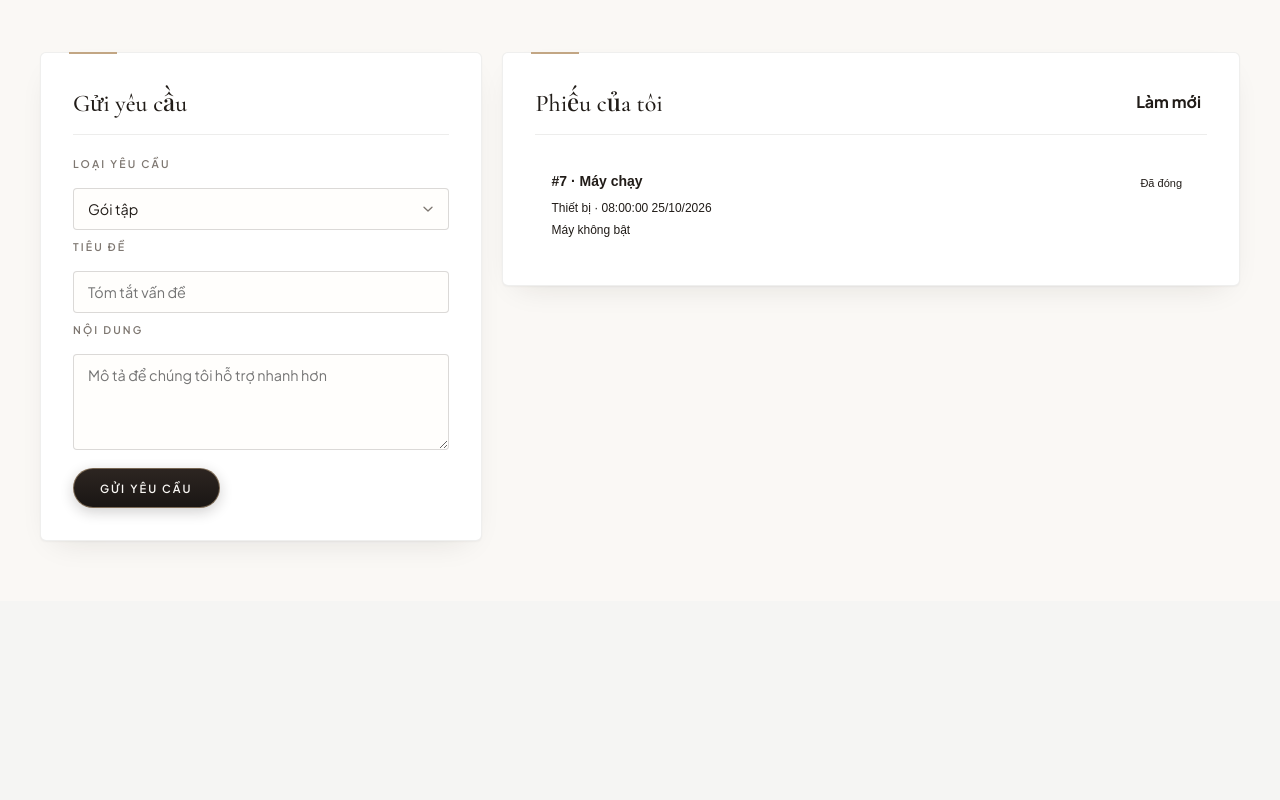
Scenario: blocks composing on closed tickets and shows list failure
Step 1. Click the button with class "member-support-ticket" → [611, 181], box [536, 157, 1207, 253]
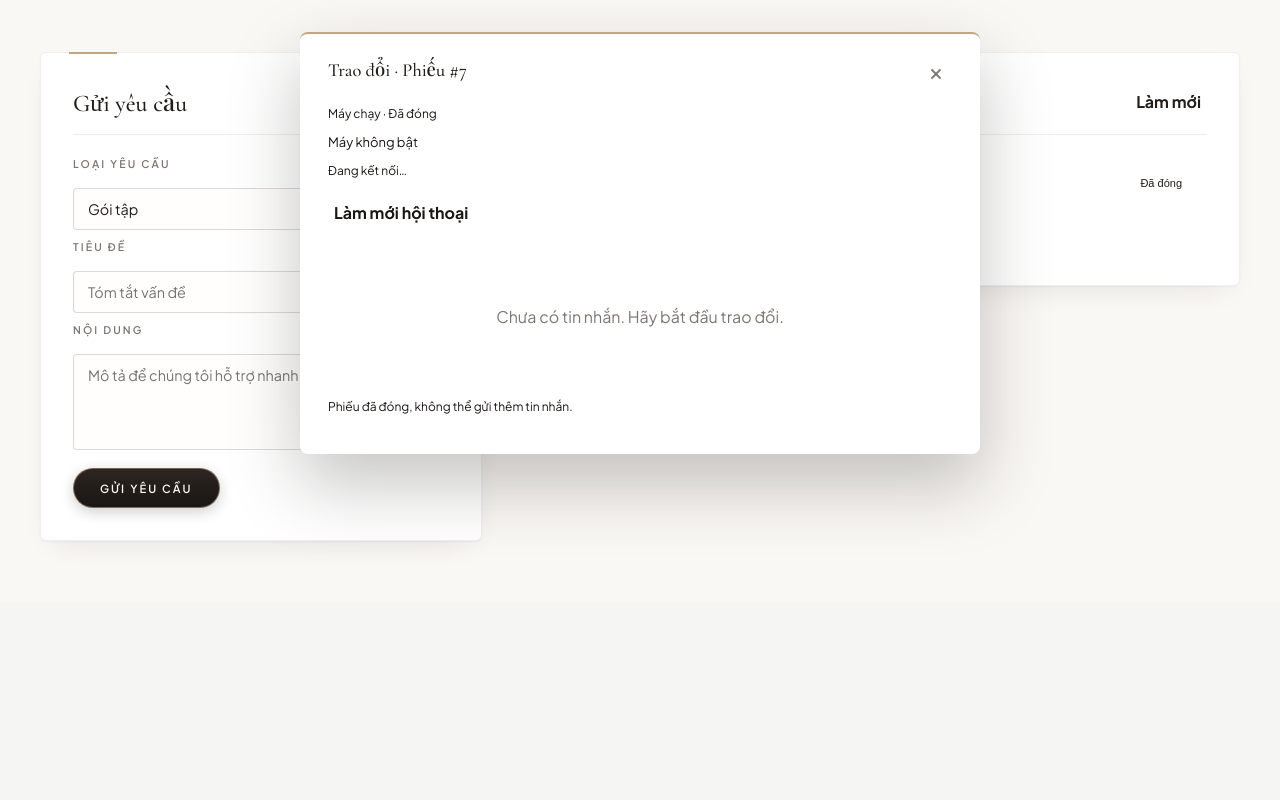
Check: the text "Phiếu đã đóng" is shown, box [328, 399, 573, 414]
